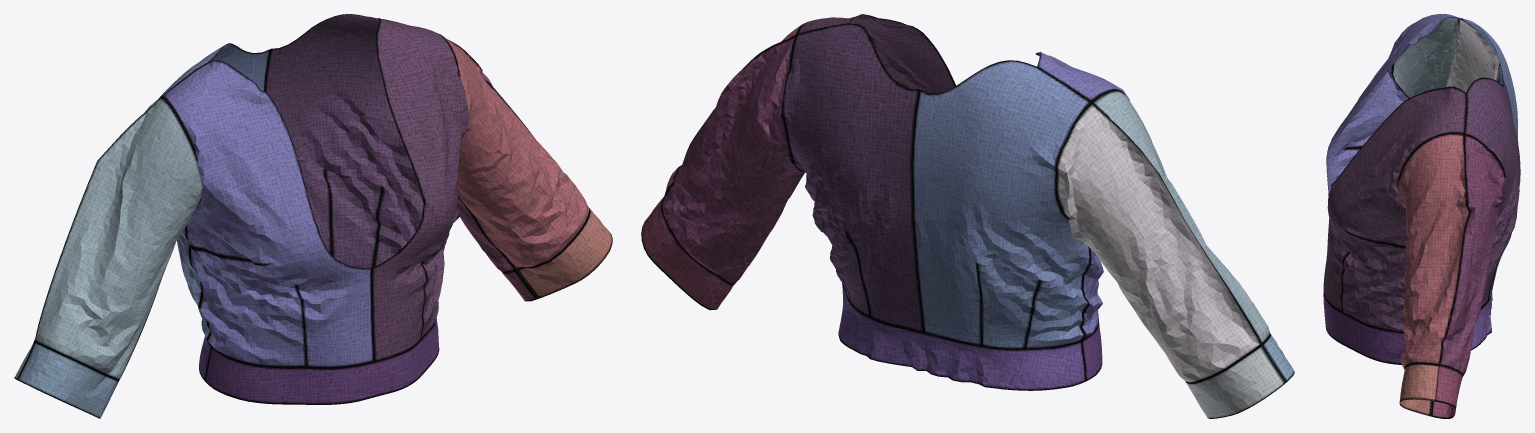
File: generated_rand_2M8H83CQJP_sim.obj
3 views of the same model, side by side, from view 1: azimuth 30°, elevation 25°; view 2: azimuth 150°, elevation 25°; view 3: azimuth 270°, elevation 25° (orthographic). The views are drawn at different scales.
Size of the model in its own units: 78.73 by 39.7 by 25.94.
Materials: 1 (1 with a texture image).
